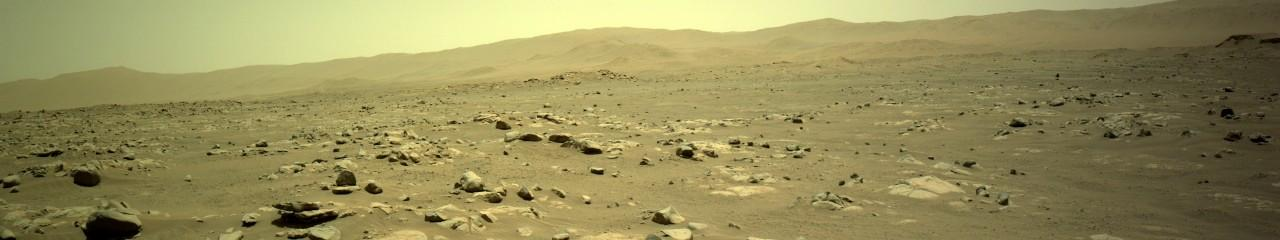bedrock: (496, 42, 1279, 239), (0, 59, 792, 239), (669, 141, 795, 203), (876, 170, 1007, 209), (393, 62, 672, 75), (424, 198, 567, 211)
big_rock: (139, 236, 141, 237)
sand: (691, 11, 1269, 64), (320, 76, 490, 86), (322, 50, 381, 60)
soil: (1161, 193, 1271, 233)
